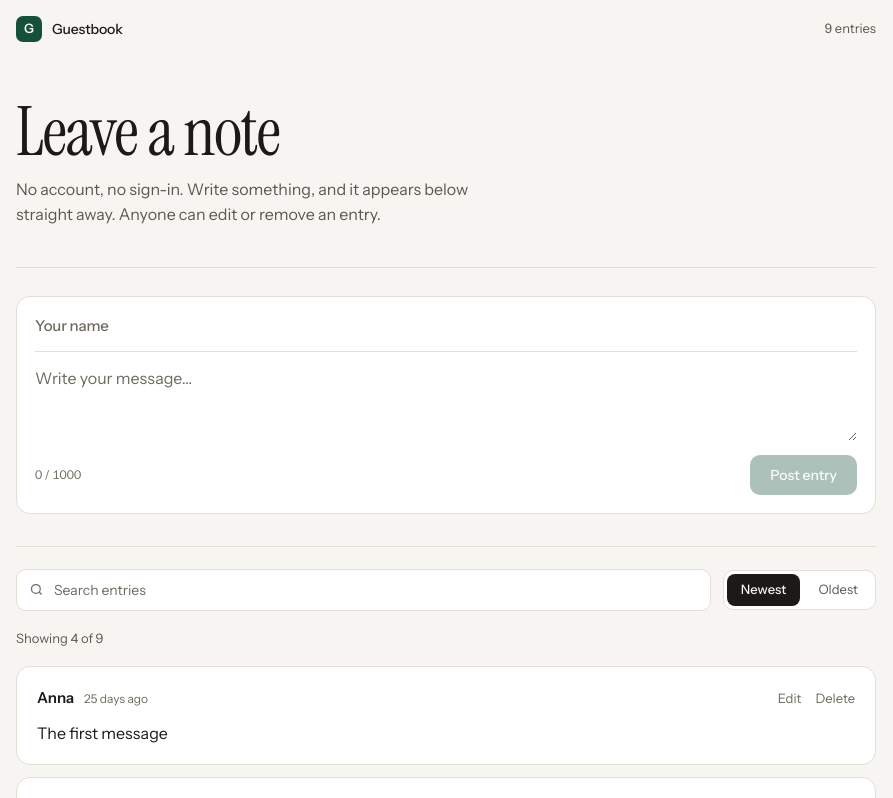
searching › finds an entry that was never on the first page
Check: the text "The first message" is shown, box x1=37 y1=723 x2=168 y2=743
Check: the text "Message 8" is not shown
In the search field labelled "Search entries": (376, 590) x1=54 y1=580 x2=698 y2=600, type "Message 8"
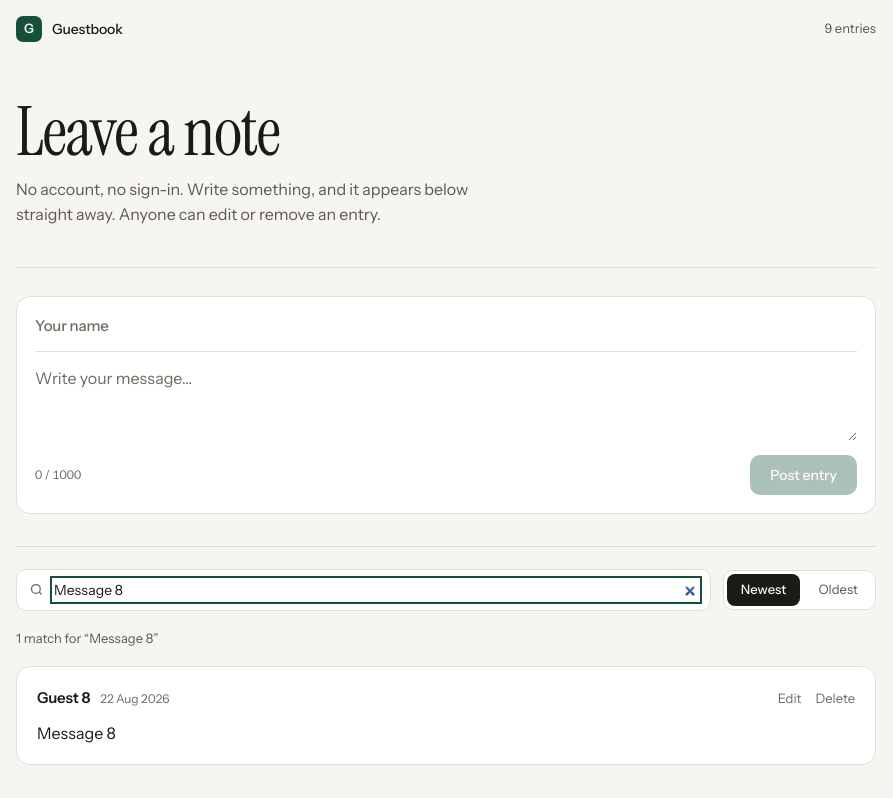
Check: the text "Message 8" is shown, box x1=37 y1=723 x2=116 y2=743
